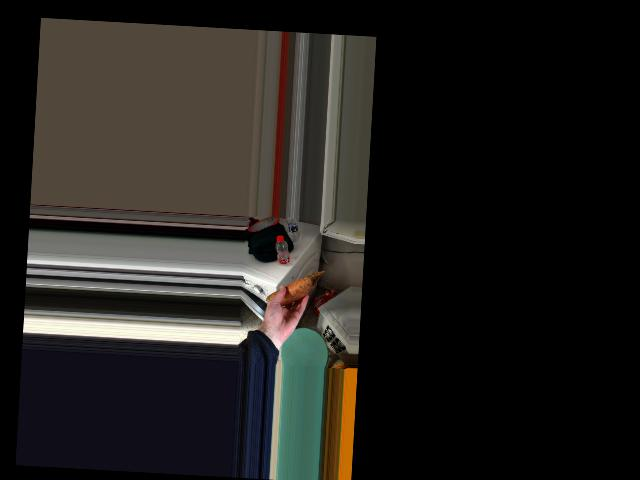sweet_potato: (272, 277, 309, 304)
